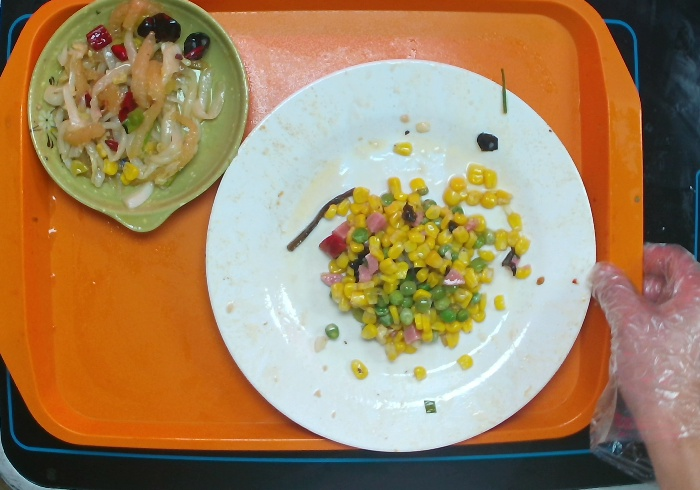NLDX-Da_Yuan_Pan: (202, 57, 597, 457)
NLDX-Lv_Hua_Shuang_Er_Die: (24, 1, 253, 236)
